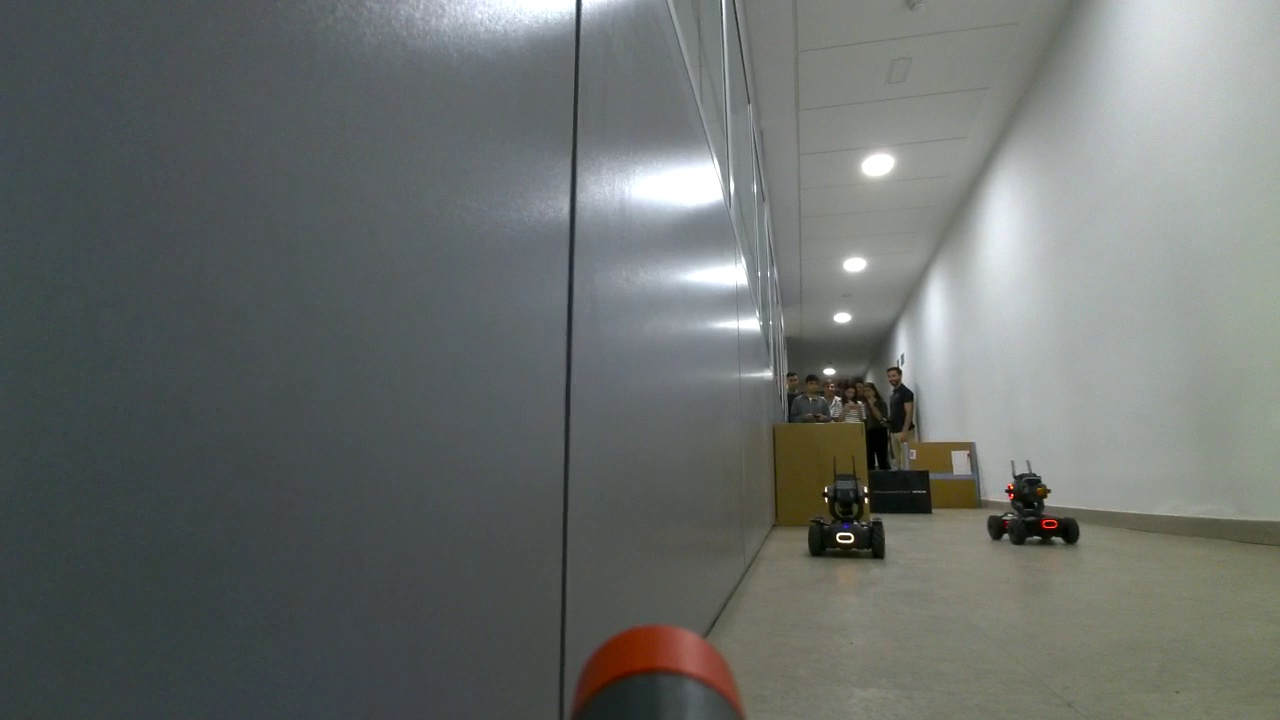robot: (985, 474, 1080, 547), (806, 477, 887, 561)
